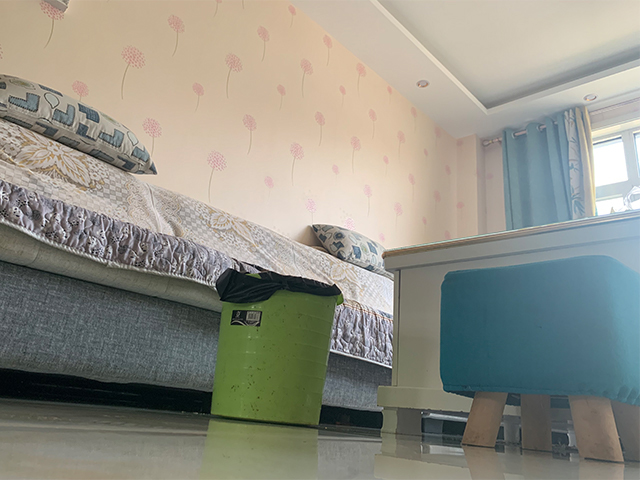sofa: (1, 72, 395, 435)
stool: (439, 254, 640, 465)
table: (376, 210, 640, 462)
trashcan: (210, 268, 346, 428)
